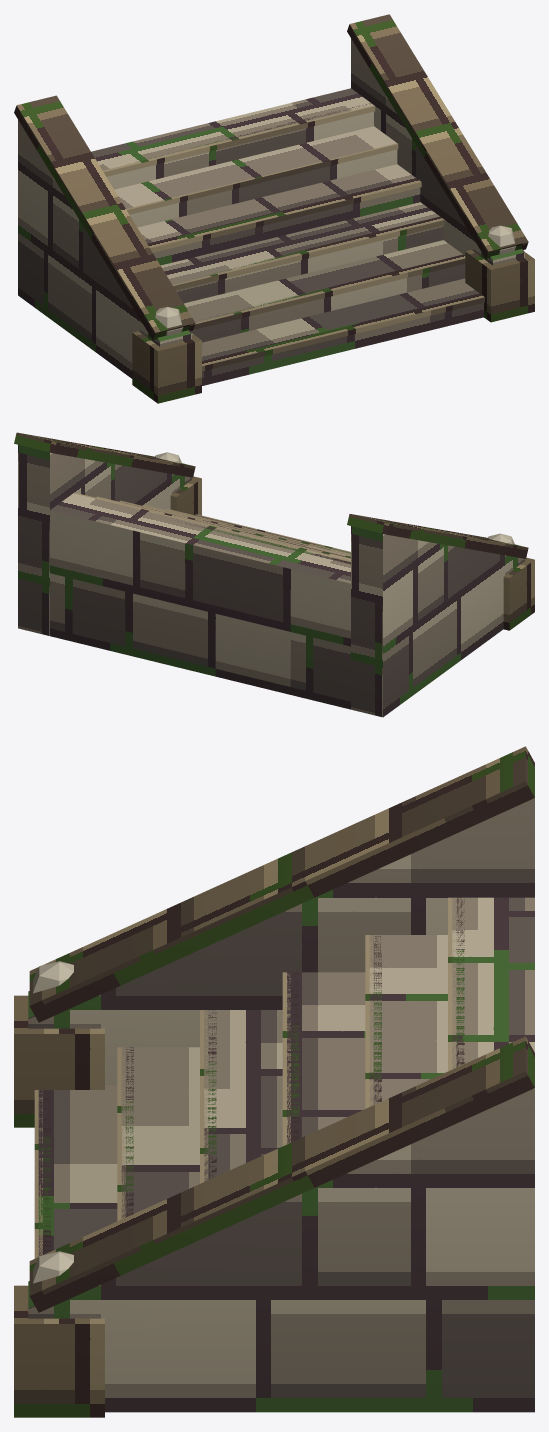
The model's file is scene_stair_c3.glb.
3 views of the same model, one above another, from view 1: azimuth 30°, elevation 25°; view 2: azimuth 150°, elevation 25°; view 3: azimuth 270°, elevation 25° (orthographic). The views are drawn at different scales.
Visible parts, largest first — view 1: scene_stair_c3; view 2: scene_stair_c3; view 3: scene_stair_c3.
Part boxes in pixels (x1,y1,x2,y2): scene_stair_c3: (14,14,534,403); scene_stair_c3: (14,432,534,717); scene_stair_c3: (14,746,534,1417).
Bounding box in the file's own units: 3.76 × 1.84 × 2.52.
2 materials, 1 textured.
